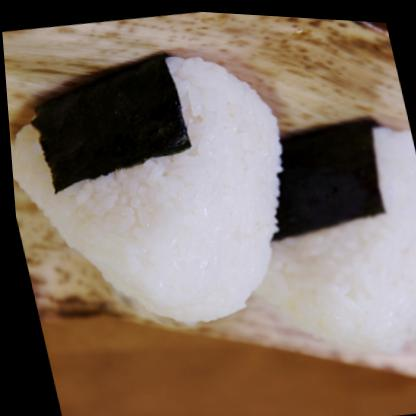rice roll: (3, 44, 308, 352), (219, 88, 415, 375)
